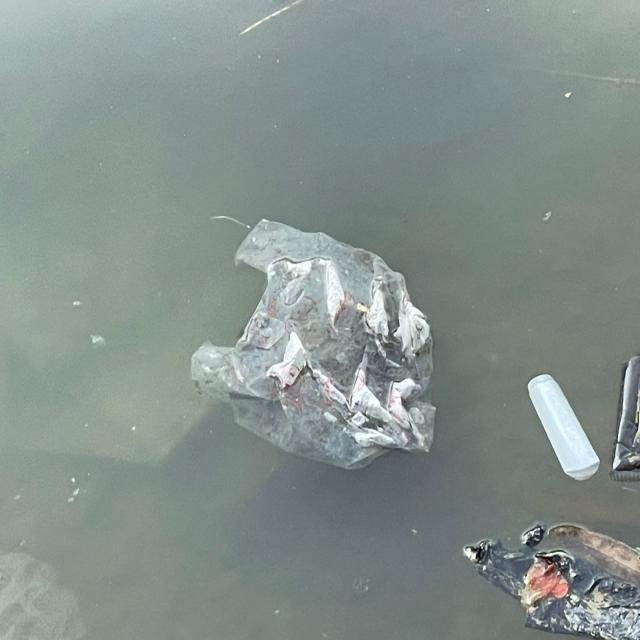Kantong Plastik: (182, 214, 441, 480)
